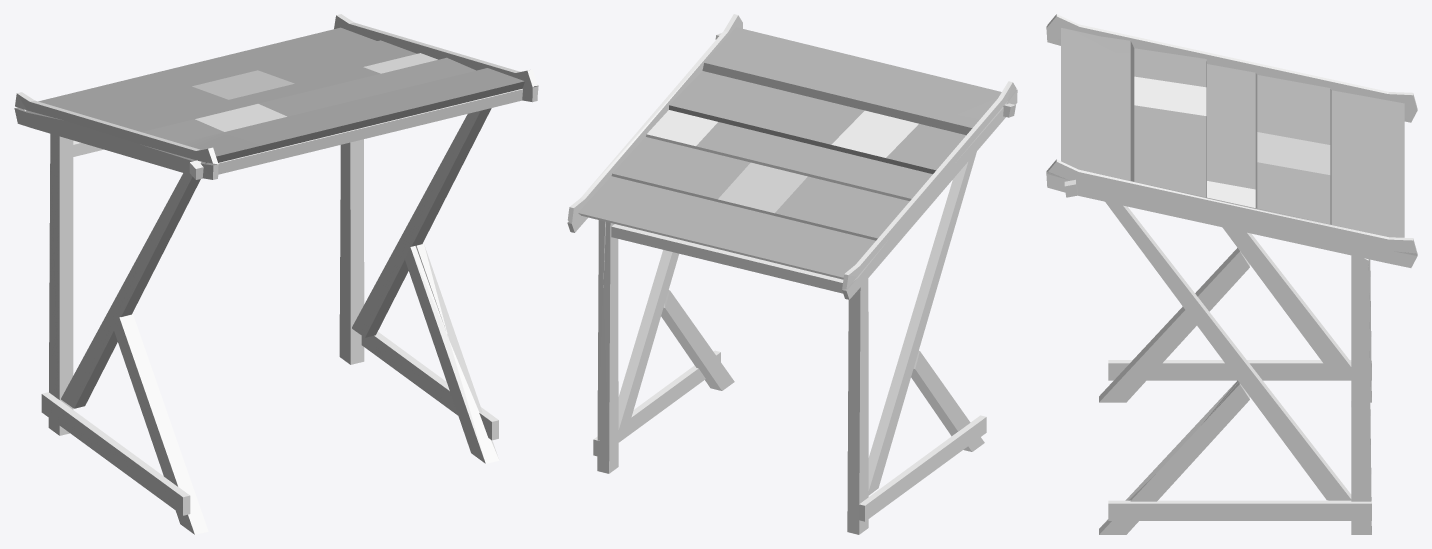
The model's file is PT_Market_Stall_05.fbx.
3 renders of one model, left to right at view 1: azimuth 30°, elevation 25°; view 2: azimuth 150°, elevation 25°; view 3: azimuth 270°, elevation 25°, orthographic. The views are drawn at different scales.
Visible parts, largest first — view 1: PT_Market_Stall_05; view 2: PT_Market_Stall_05; view 3: PT_Market_Stall_05.
Boxes of the visible parts, box(x1,y1,x2,y2) form: PT_Market_Stall_05: box(14, 14, 538, 534); PT_Market_Stall_05: box(567, 14, 1017, 534); PT_Market_Stall_05: box(1046, 14, 1417, 534).
Size of the model in its own units: 347 by 392 by 349.
1 material, 1 textured.
